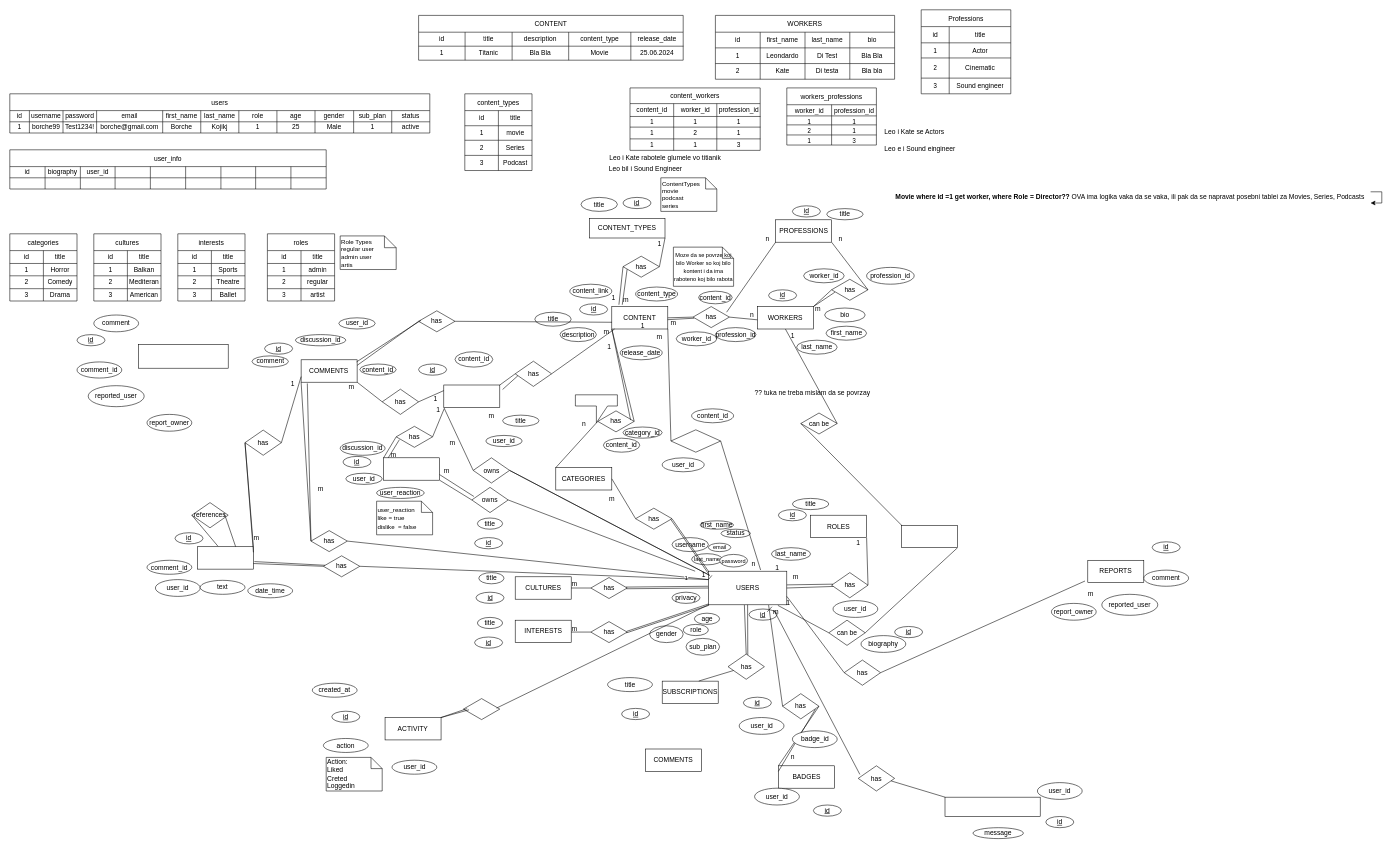
Image size: 1396x848. Some labels were removed from this diagram. The centre of each missing label's shape, as x and y in pixels:
"ARTISTS" belongs at [929,536].
"COMMENT_REPORTS" belongs at [183,356].
"did" belongs at [481,709].
"DISCUSSIONS" belongs at [471,395].
"ENGAGEMENT" belongs at [411,468].
"genres" belongs at [596,408].
"has worked on" belongs at [695,440].
"REPLIES" belongs at [225,557].
"USER_MESSAGES" belongs at [992,806].
